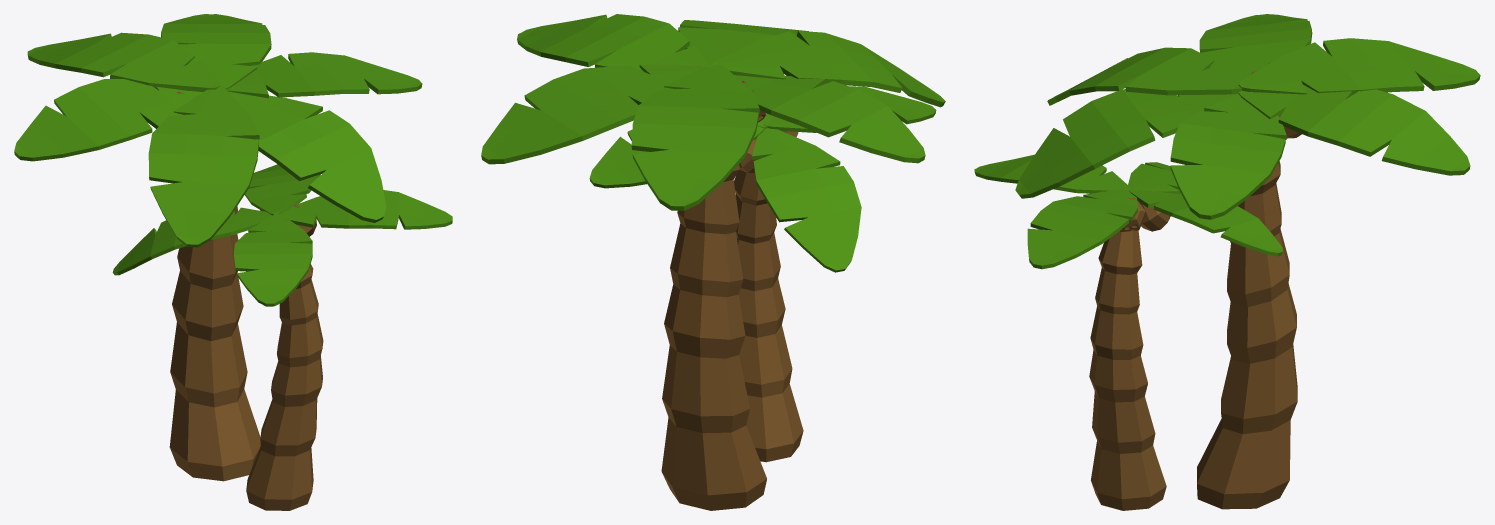
The model's file is SM_GroupedPalmTree1.fbx.
3 views of the same model, side by side, from view 1: azimuth 30°, elevation 25°; view 2: azimuth 150°, elevation 25°; view 3: azimuth 270°, elevation 25° (orthographic). The views are drawn at different scales.
Parts seen in each view (by area): view 1: SM_GroupedPalmTree1; view 2: SM_GroupedPalmTree1; view 3: SM_GroupedPalmTree1.
Part boxes in pixels (x1,y1,x2,y2): SM_GroupedPalmTree1: (14,14,452,510); SM_GroupedPalmTree1: (481,14,945,510); SM_GroupedPalmTree1: (974,14,1480,510).
Size of the model in its own units: 930 by 894 by 997.
